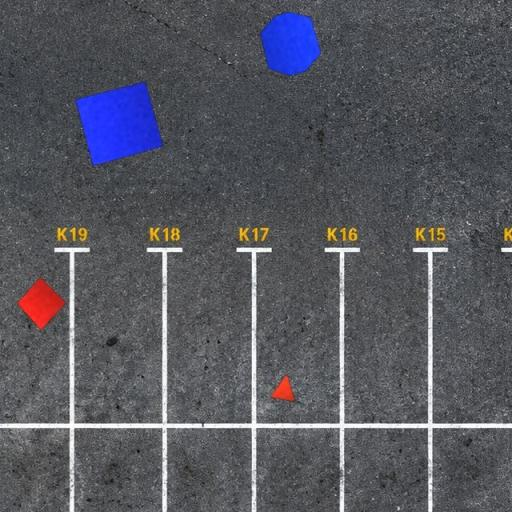BLUE_SQUARE: (75, 81, 164, 166)
RED_SQUARE: (16, 276, 66, 331)
